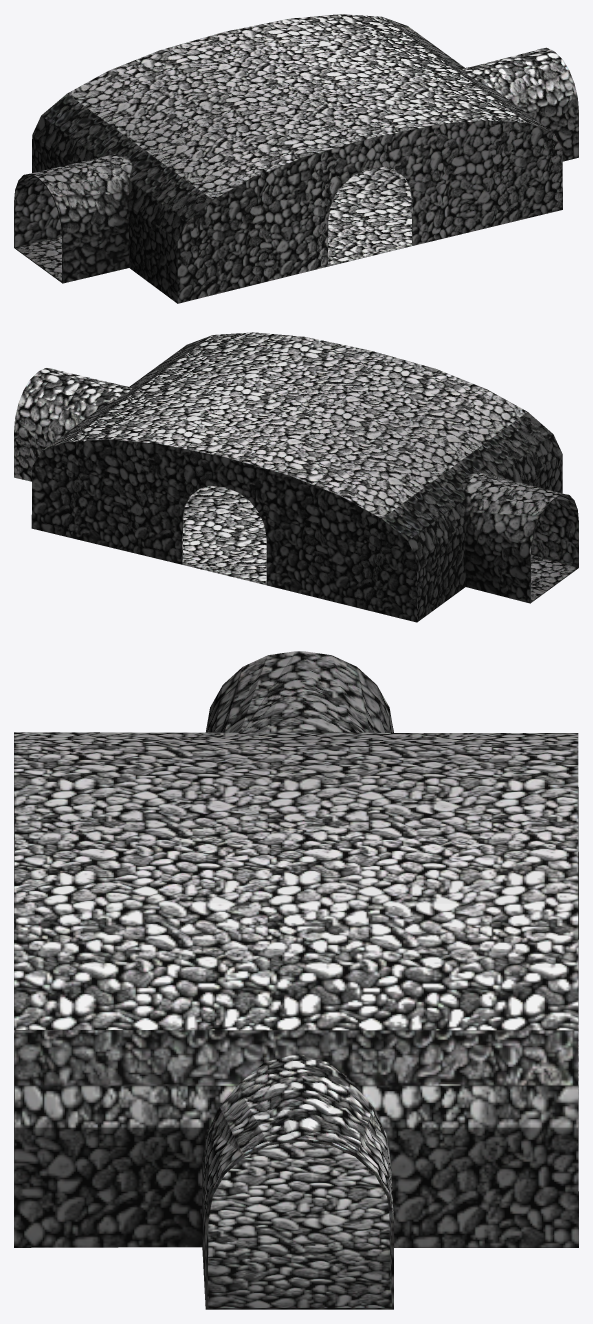
The model's file is FourWayRoom.fbx.
3 views of the same model, one above another, from view 1: azimuth 30°, elevation 25°; view 2: azimuth 150°, elevation 25°; view 3: azimuth 270°, elevation 25° (orthographic). The views are drawn at different scales.
Parts seen in each view (by area): view 1: Room3; view 2: Room3; view 3: Room3.
Boxes of the visible parts, x1,y1,x2,y2 form: Room3: (14,14,578,303); Room3: (14,332,578,622); Room3: (14,651,578,1309).
Bounding box in the file's own units: 1226 × 269 × 600.
